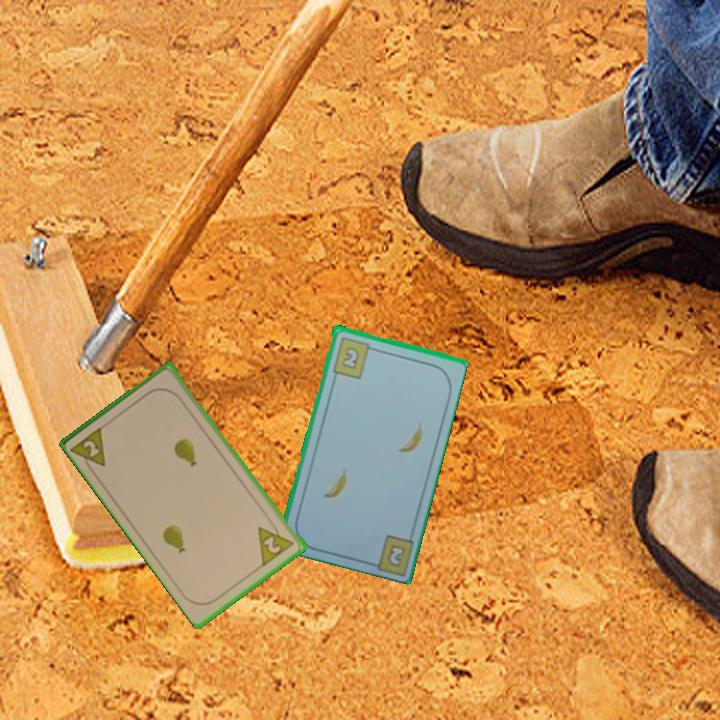2b: (329, 333, 378, 381), (384, 540, 408, 569)
2p: (68, 422, 109, 477), (254, 516, 297, 568)
